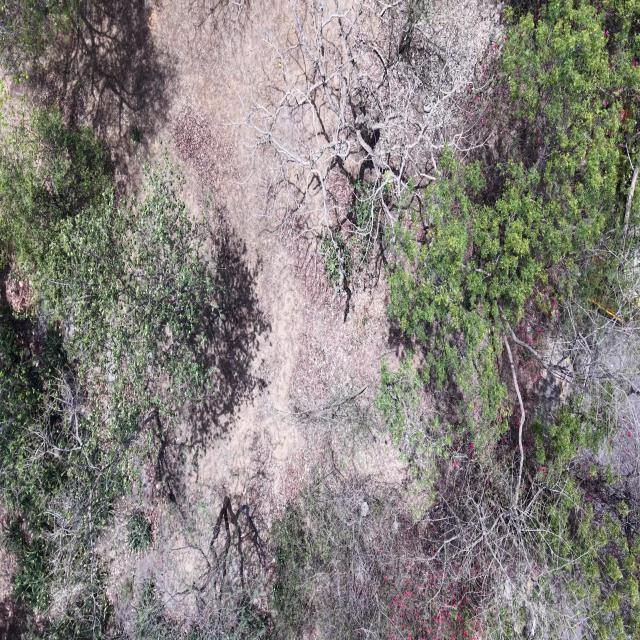DRY_AREA: (45, 0, 403, 627)
VEGETATION_TREE: (129, 0, 639, 639), (378, 2, 639, 638), (0, 112, 216, 637)
